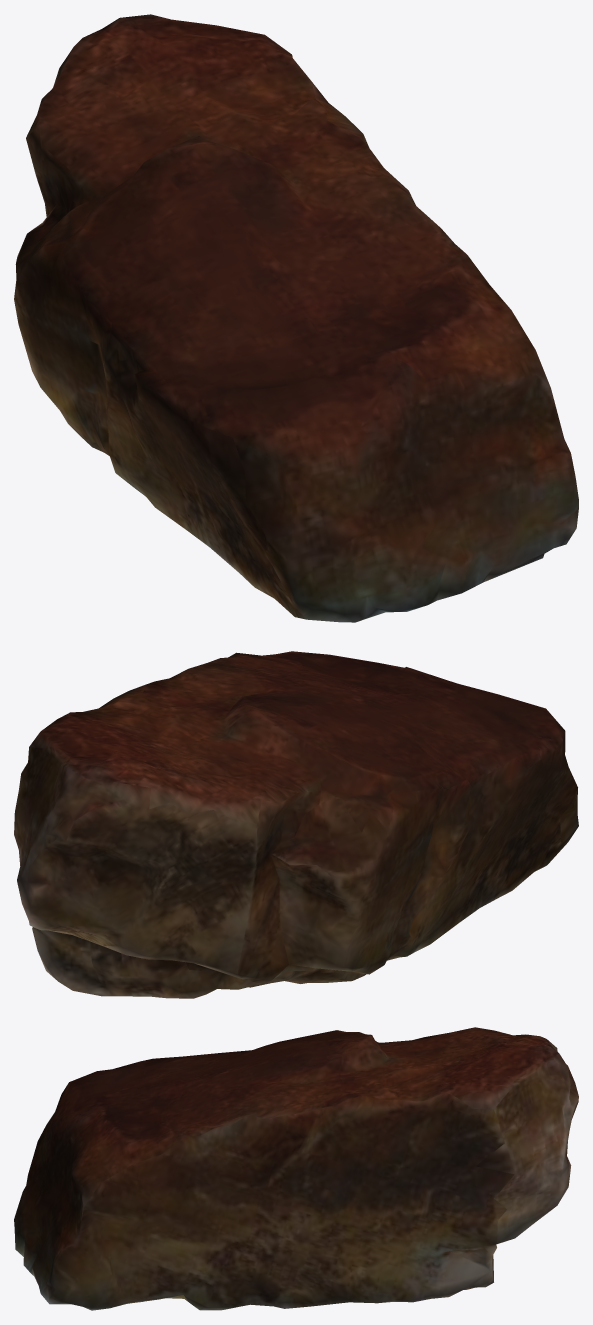
The model's file is roca_suelo_07.glb.
The picture shows the model from 3 angles, top to bottom: view 1: azimuth 30°, elevation 25°; view 2: azimuth 150°, elevation 25°; view 3: azimuth 270°, elevation 25°; orthographic projection. The views are drawn at different scales.
Visible parts, largest first — view 1: roca_suelo_07; view 2: roca_suelo_07; view 3: roca_suelo_07.
Part boxes in pixels (bbox=[...]): roca_suelo_07: bbox=[14, 14, 578, 622]; roca_suelo_07: bbox=[14, 651, 578, 998]; roca_suelo_07: bbox=[14, 1027, 578, 1310].
Size of the model in its own units: 0.5508 by 0.4705 by 1.05.
Materials: 1 (1 with a texture image).
